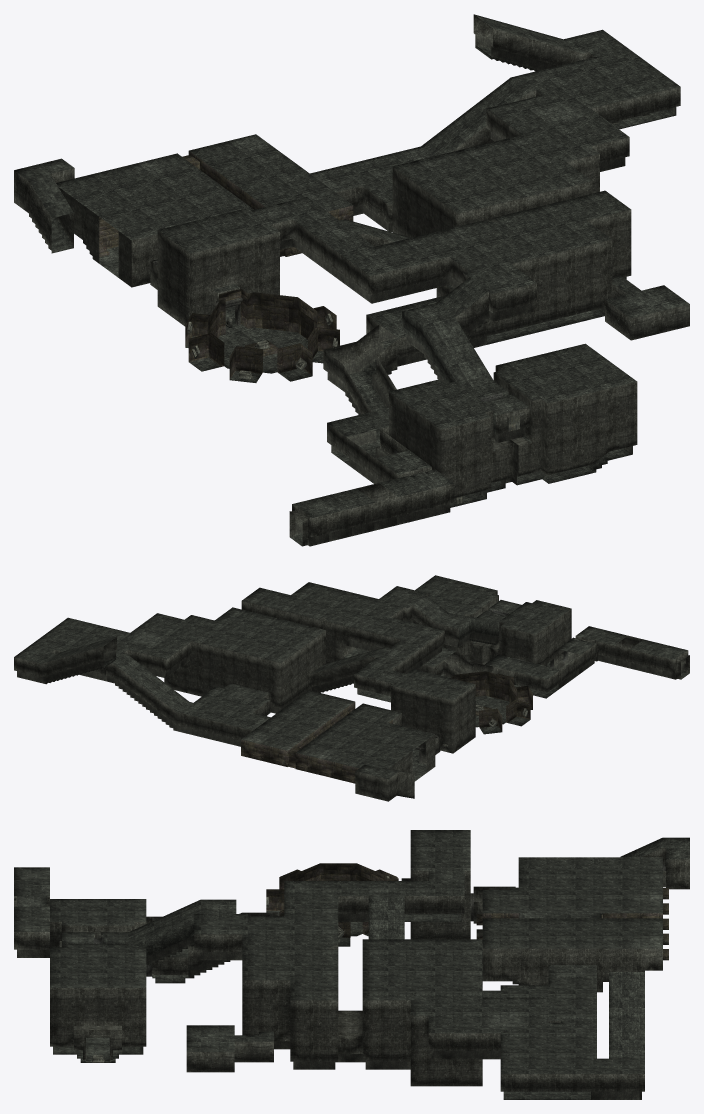
The picture shows the model from 3 angles, top to bottom: view 1: azimuth 30°, elevation 25°; view 2: azimuth 150°, elevation 25°; view 3: azimuth 270°, elevation 25°; orthographic projection. The views are drawn at different scales.
Parts seen in each view (by area): view 1: Chunk-0_Mesh-1, Chunk-12_Mesh-1, Chunk-12_Mesh-0, Chunk-22_Mesh-1, Chunk-24_Mesh-2, Chunk-2_Mesh-0, Chunk-10_Mesh-3, Chunk-21_Mesh-1, Chunk-14_Mesh-0, Chunk-0_Mesh-0, Chunk-22_Mesh-2, Chunk-7_Mesh-3 (+31 smaller); view 2: Chunk-0_Mesh-1, Chunk-0_Mesh-0, Chunk-12_Mesh-1, Chunk-24_Mesh-2, Chunk-10_Mesh-3, Chunk-7_Mesh-3, Chunk-12_Mesh-0, Chunk-2_Mesh-0, Chunk-21_Mesh-1, Chunk-14_Mesh-0, Chunk-22_Mesh-2, Chunk-1_Mesh-1 (+34 smaller); view 3: Chunk-0_Mesh-1, Chunk-12_Mesh-1, Chunk-12_Mesh-0, Chunk-2_Mesh-0, Chunk-10_Mesh-3, Chunk-22_Mesh-1, Chunk-7_Mesh-3, Chunk-22_Mesh-2, Chunk-7_Mesh-2, Chunk-1_Mesh-0, Chunk-3_Mesh-0, Chunk-0_Mesh-0 (+31 smaller).
Boxes of the visible parts, x1,y1,x2,y2 form: Chunk-0_Mesh-1: (310,75,591,213); Chunk-12_Mesh-1: (342,190,630,344); Chunk-12_Mesh-0: (341,209,631,335); Chunk-22_Mesh-1: (493,366,637,475); Chunk-24_Mesh-2: (150,230,279,326); Chunk-2_Mesh-0: (486,51,679,129); Chunk-10_Mesh-3: (73,167,253,277); Chunk-21_Mesh-1: (389,392,518,497); Chunk-14_Mesh-0: (402,277,529,434); Chunk-0_Mesh-0: (336,90,592,237); Chunk-22_Mesh-2: (494,343,636,485); Chunk-7_Mesh-3: (189,134,352,211); Chunk-0_Mesh-1: (111,607,325,730); Chunk-0_Mesh-0: (106,630,325,740); Chunk-12_Mesh-1: (242,582,444,658); Chunk-24_Mesh-2: (391,684,475,754); Chunk-10_Mesh-3: (309,713,434,781); Chunk-7_Mesh-3: (241,690,354,750); Chunk-12_Mesh-0: (241,594,444,663); Chunk-2_Mesh-0: (34,617,182,659); Chunk-21_Mesh-1: (481,609,571,664); Chunk-14_Mesh-0: (412,595,521,644); Chunk-22_Mesh-2: (415,575,498,643); Chunk-1_Mesh-1: (130,613,214,647); Chunk-0_Mesh-1: (362,939,596,1025); Chunk-12_Mesh-1: (194,881,338,1000); Chunk-12_Mesh-0: (194,934,338,1061); Chunk-2_Mesh-0: (500,997,596,1099); Chunk-10_Mesh-3: (518,857,626,918); Chunk-22_Mesh-1: (50,988,146,1061); Chunk-7_Mesh-3: (482,918,662,948); Chunk-22_Mesh-2: (50,943,146,1062); Chunk-7_Mesh-2: (482,940,668,992); Chunk-1_Mesh-0: (410,1015,500,1086); Chunk-3_Mesh-0: (591,972,644,1073); Chunk-0_Mesh-0: (338,1000,560,1061).
Size of the model in its own units: 11379 by 3000 by 11250.
Materials: 10 (10 with a texture image).
